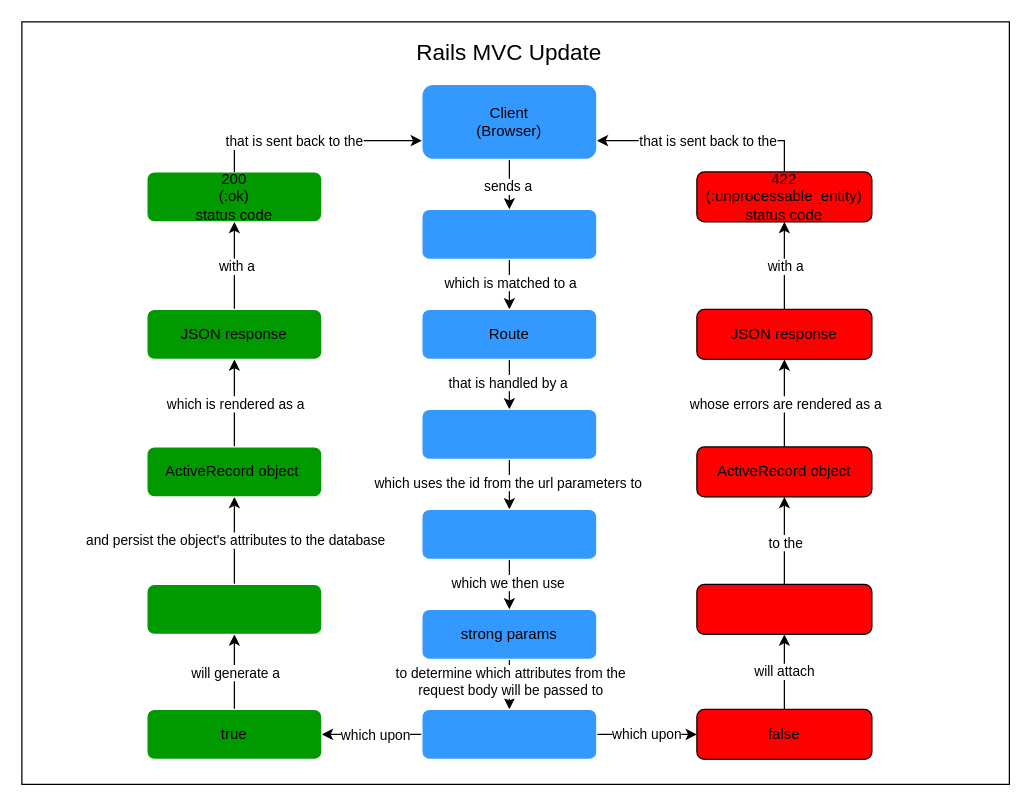
This 1031x806 diagram has some shape labels left out. The box of each missing label's shape, as (x1, y1, x2, y2) in pixels:
Controller Action: (421, 408, 597, 459)
find the object we want to update: (421, 508, 597, 559)
Request (including a body and headers): (421, 208, 597, 259)
SQL query: (146, 583, 322, 634)
update: (421, 708, 597, 759)
validation errors: (696, 583, 872, 634)
